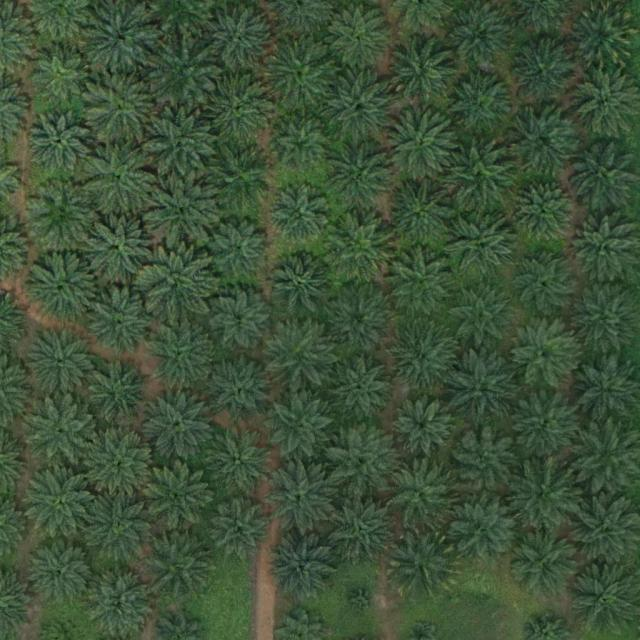Healthy: (326, 140, 397, 211), (385, 110, 456, 181), (387, 250, 458, 321), (509, 391, 580, 462), (507, 460, 578, 531), (445, 284, 516, 355), (389, 325, 460, 396), (85, 568, 156, 639), (26, 327, 97, 398), (203, 5, 273, 76), (29, 251, 99, 322), (85, 74, 156, 144), (148, 36, 218, 107), (145, 110, 215, 181), (146, 177, 217, 247), (142, 249, 213, 319), (208, 73, 278, 144), (206, 144, 276, 215), (266, 35, 337, 105), (327, 72, 397, 143), (327, 218, 397, 289), (324, 285, 394, 356), (387, 35, 457, 106), (443, 141, 513, 212), (448, 212, 518, 283), (567, 140, 638, 210), (570, 216, 640, 287), (570, 559, 640, 630), (510, 528, 581, 598), (447, 353, 517, 424), (449, 428, 520, 498), (324, 426, 394, 497), (264, 319, 334, 390), (269, 535, 339, 606), (144, 391, 214, 462), (147, 461, 217, 532), (88, 287, 158, 358), (88, 430, 158, 501), (84, 490, 155, 560), (27, 468, 97, 539), (388, 529, 458, 599), (445, 2, 515, 72), (85, 3, 155, 73), (28, 180, 98, 250), (87, 144, 157, 214), (86, 210, 156, 280), (387, 179, 457, 249), (444, 69, 514, 139), (507, 108, 577, 178), (510, 248, 580, 318), (509, 320, 579, 390), (452, 495, 522, 565), (387, 460, 457, 530), (327, 493, 397, 563), (267, 393, 337, 463), (267, 464, 337, 534), (203, 424, 273, 494), (146, 322, 216, 392), (147, 528, 217, 598), (29, 400, 99, 470), (329, 7, 392, 70), (27, 110, 90, 173), (272, 256, 335, 319), (392, 396, 455, 459), (210, 499, 273, 562), (30, 41, 92, 104), (209, 218, 271, 281), (210, 292, 272, 355), (269, 185, 332, 247), (511, 41, 573, 104), (513, 180, 575, 243), (331, 359, 393, 422), (210, 357, 272, 420), (91, 361, 153, 424), (32, 541, 94, 603), (273, 121, 328, 176)
Small: (348, 585, 379, 617), (468, 581, 499, 612)
Yellow: (568, 2, 638, 72)
